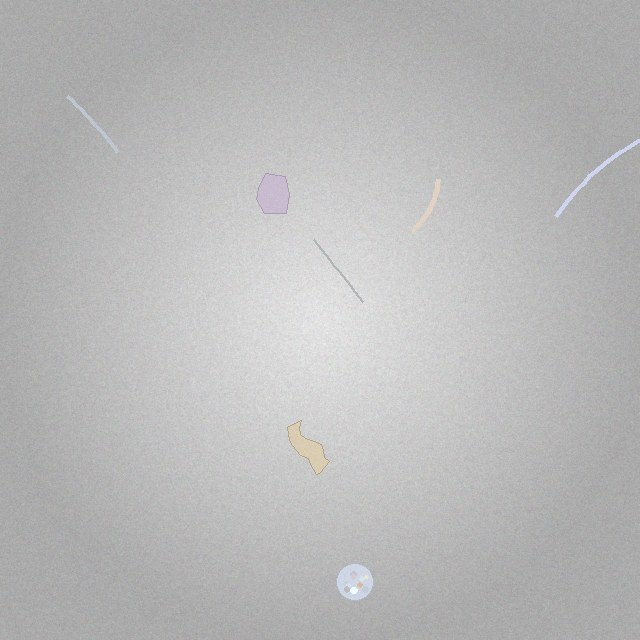fiber: (551, 132, 639, 222), (64, 93, 122, 156), (311, 237, 365, 304), (407, 174, 445, 237)
film: (288, 420, 330, 475)
foam: (336, 563, 374, 601)
fragment: (256, 173, 289, 213)
